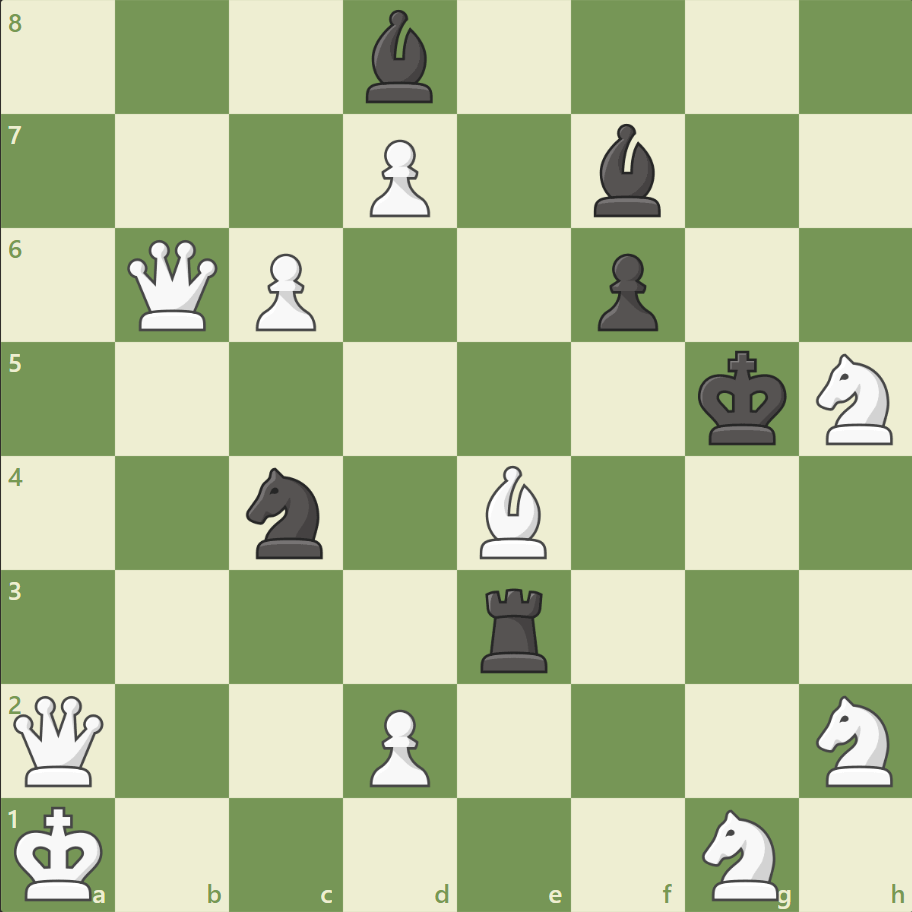B: (471, 460, 555, 563)
K: (11, 798, 111, 906)
N: (806, 688, 903, 791), (806, 348, 903, 450), (692, 802, 789, 904)
P: (247, 246, 322, 337), (361, 132, 435, 223), (361, 700, 435, 791)
Q: (124, 236, 223, 335), (10, 690, 109, 789)
b: (358, 6, 442, 109), (585, 120, 669, 222)
k: (692, 344, 792, 452)
n: (238, 461, 335, 564)
p: (588, 246, 662, 337)
r: (473, 579, 556, 676)
